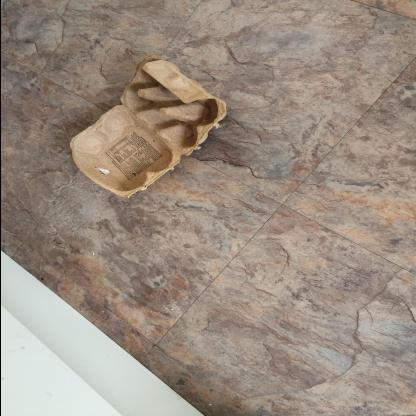karton: (69, 53, 227, 199)
